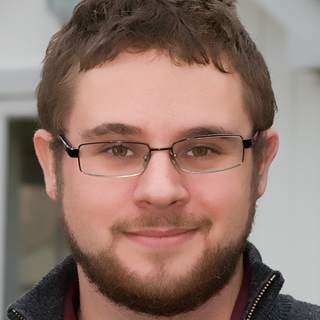eye: (96, 140, 143, 162), (179, 141, 225, 163)
